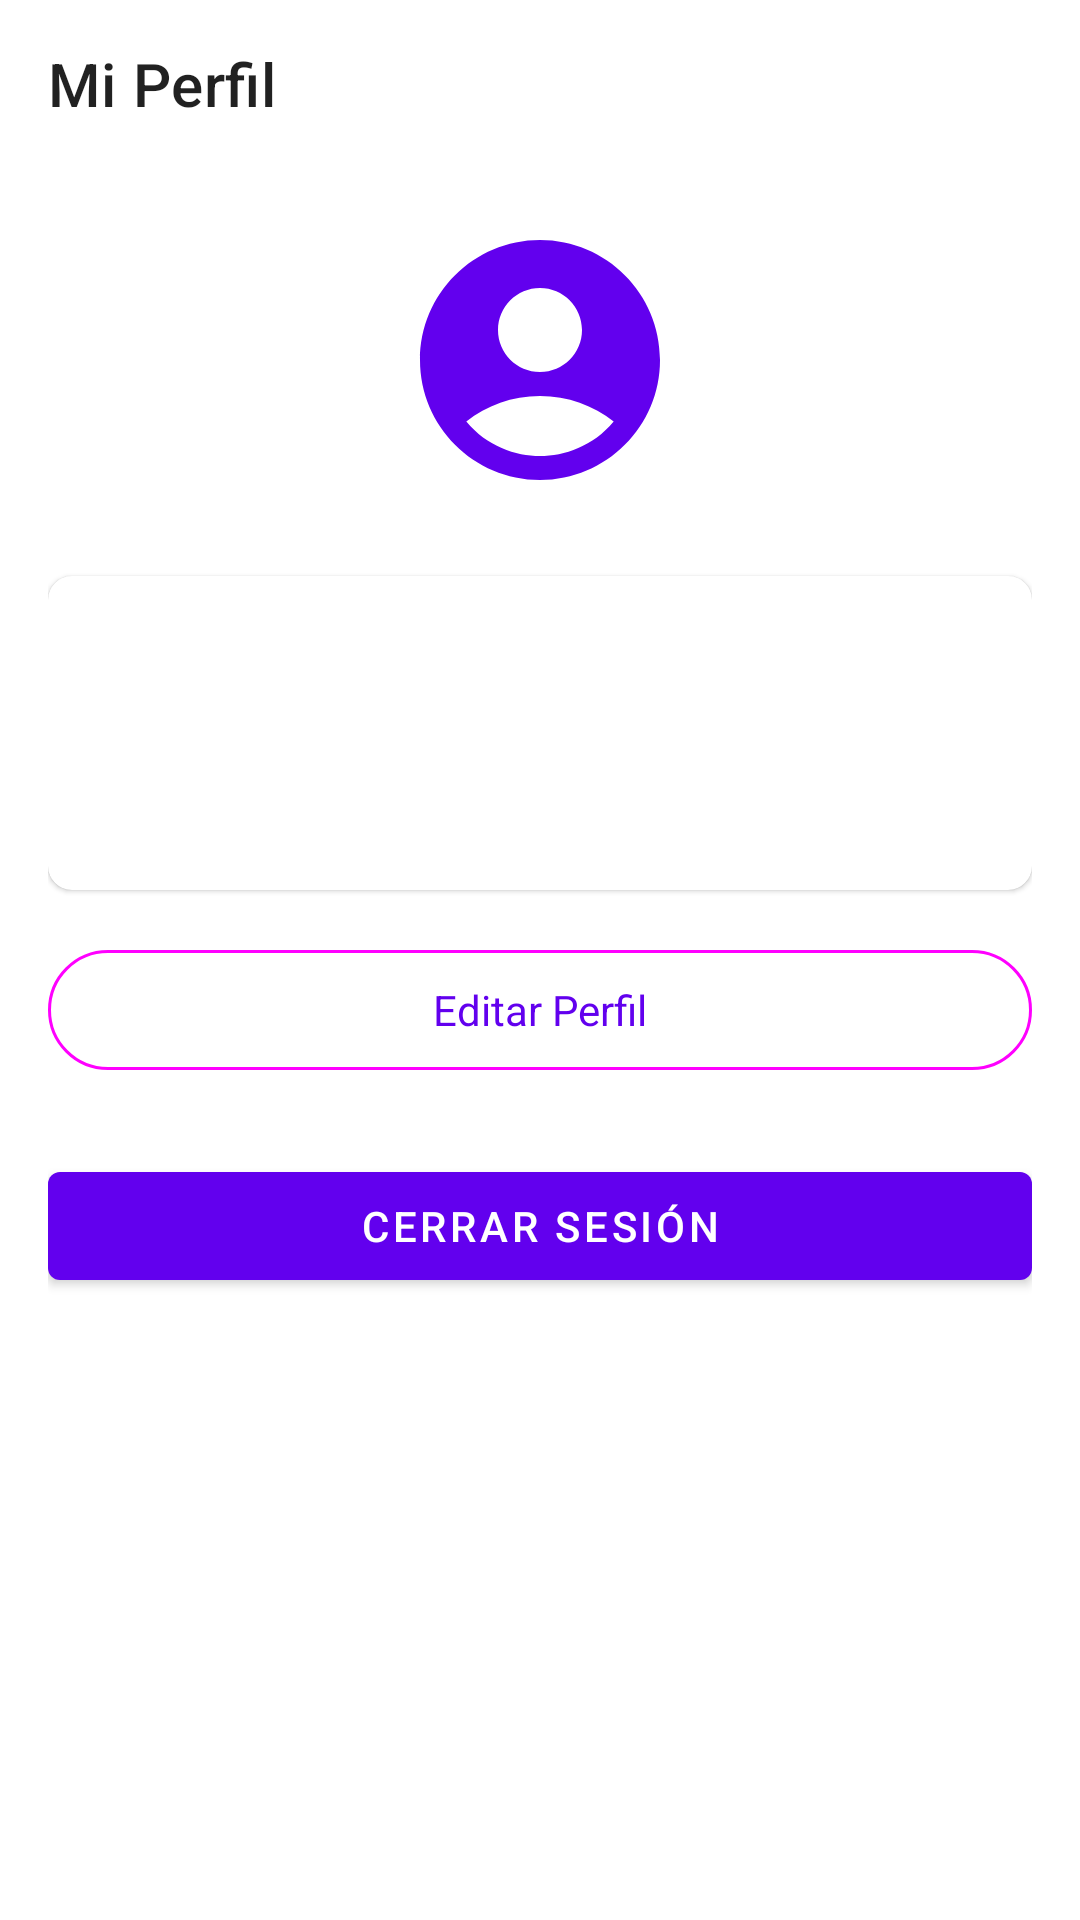

Icon bounding boxes for this 1080x1920 phone screenshot, format (x1=x1, y1=y1, x2=x2, y2=y2):
account circle: (x1=420, y1=240, x2=660, y2=480)
